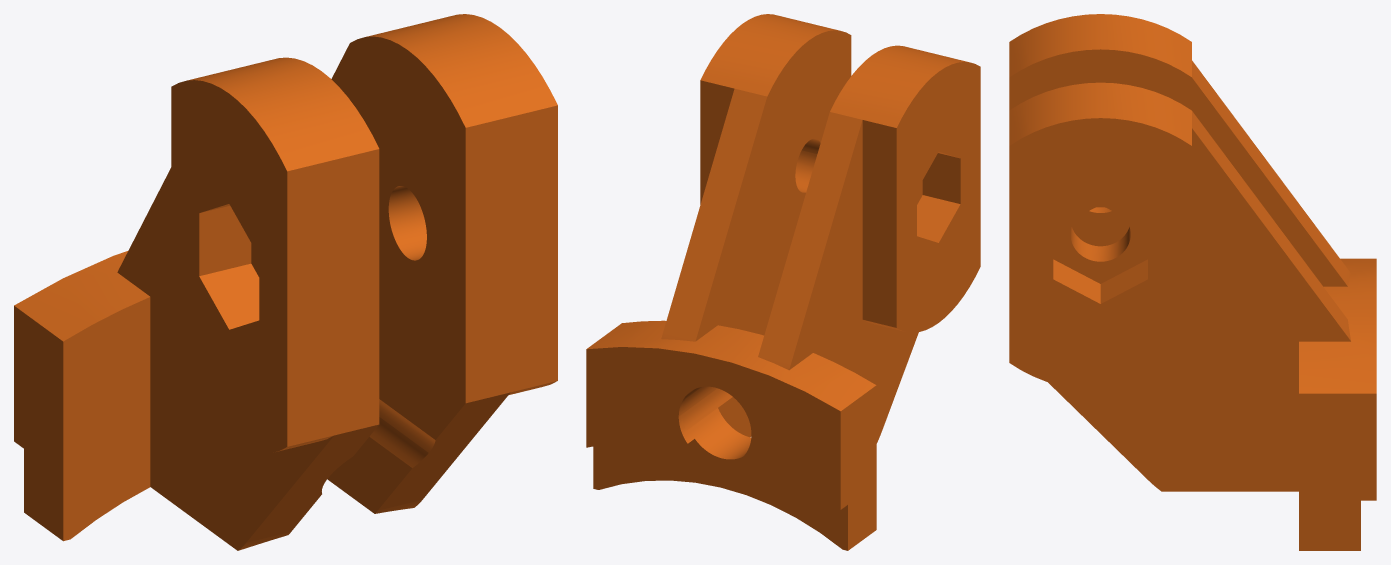
The model's file is .moza_crp_dayton_tt25_pedal_mount_fit_fixture.step.glb.
3 renders of one model, left to right at view 1: azimuth 30°, elevation 25°; view 2: azimuth 150°, elevation 25°; view 3: azimuth 270°, elevation 25°, orthographic. The views are drawn at different scales.
Parts seen in each view (by area): view 1: o1; view 2: o1; view 3: o1.
Boxes of the visible parts, bbox=[...] form: o1: bbox=[14, 14, 557, 550]; o1: bbox=[586, 14, 980, 550]; o1: bbox=[1009, 14, 1376, 550].
Size of the model in its own units: 0.035 by 0.0505 by 0.0402.
